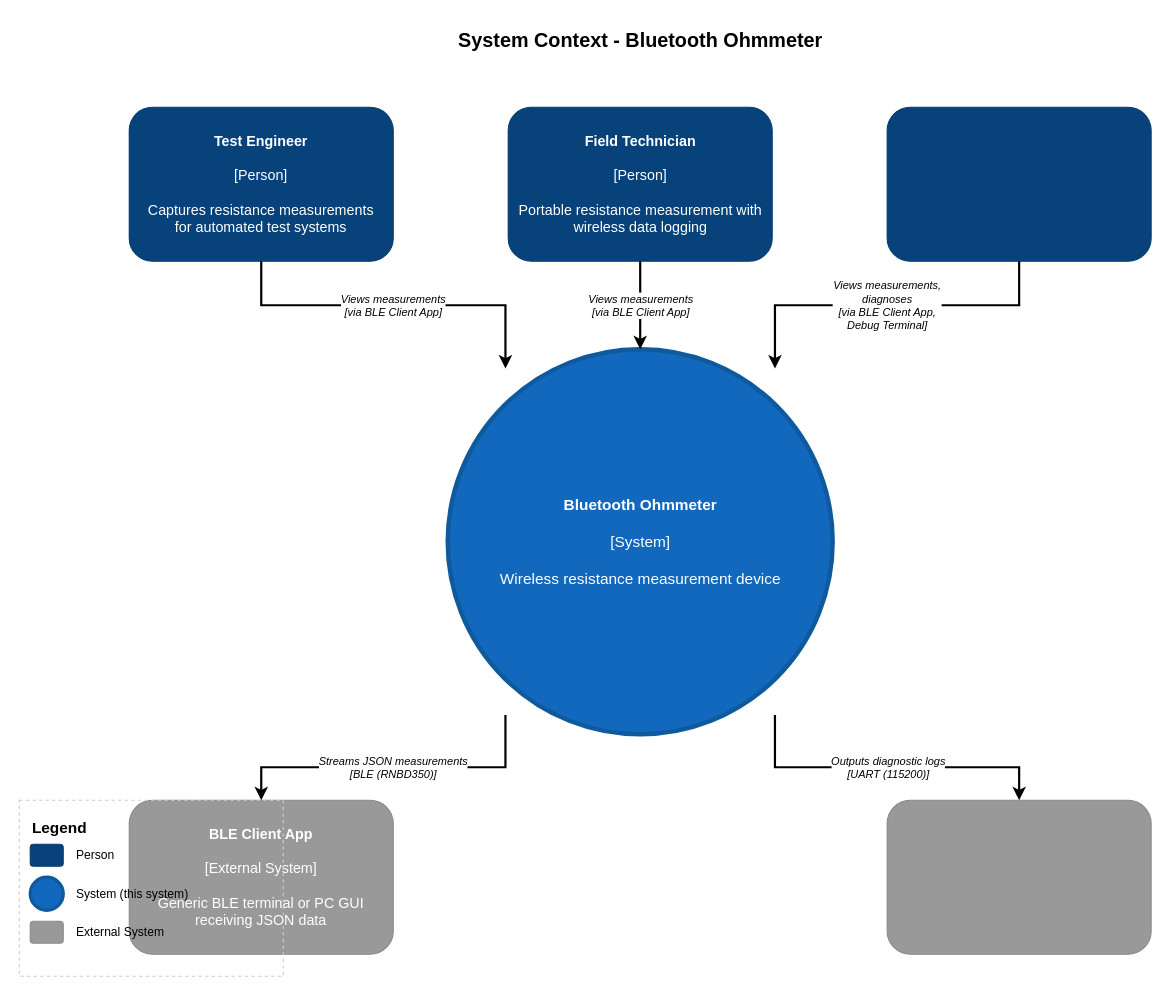
Some shapes in this 1170 by 996 pixel diagram are drawn without their labels. The shapes that lost their labels are listed below. From the top down, each one's centre as x and y in pixels, then its label:
At (1018,183): "Development Engineer [Person] Real-time monitoring during prototype testing".
At (1018,876): "Debug Terminal [External System] Serial terminal for diagnostic output".
